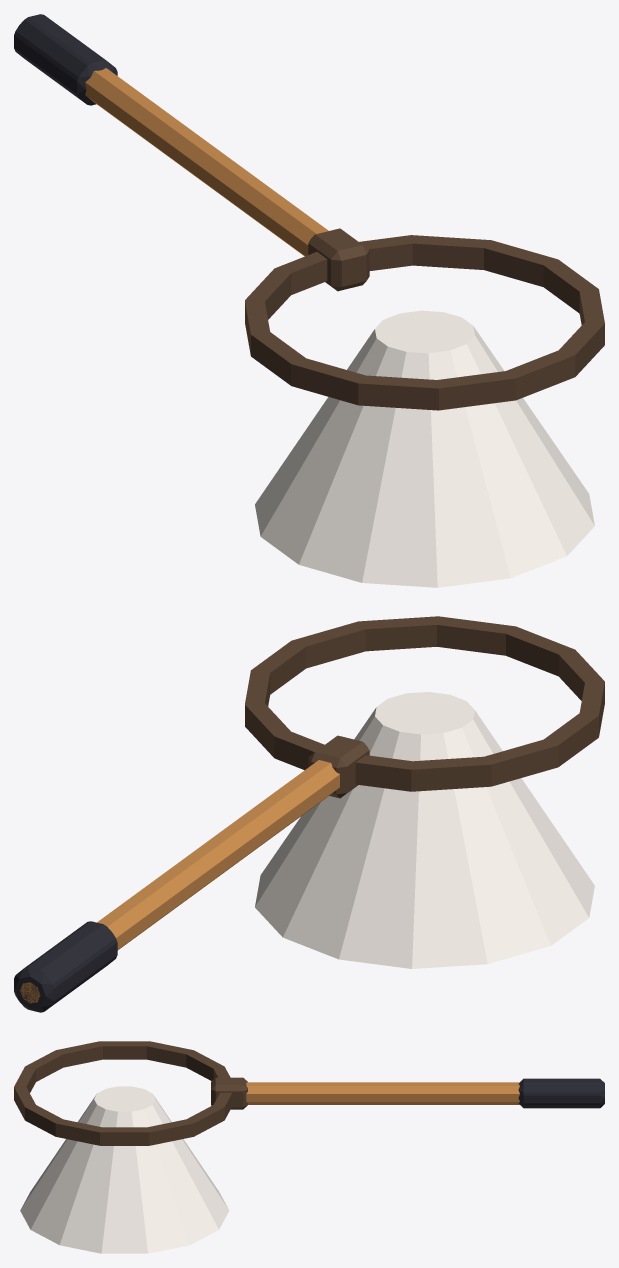
The model's file is CatCafe_Item_Net_L1.glb.
The picture shows the model from 3 angles, top to bottom: view 1: azimuth 30°, elevation 25°; view 2: azimuth 150°, elevation 25°; view 3: azimuth 270°, elevation 25°; orthographic projection. The views are drawn at different scales.
Visible parts, largest first — view 1: CatCafe_Item_Net_L1_Bag, CatCafe_Item_Net_L1_Handle; view 2: CatCafe_Item_Net_L1_Bag, CatCafe_Item_Net_L1_Handle; view 3: CatCafe_Item_Net_L1_Bag, CatCafe_Item_Net_L1_Handle.
Boxes of the visible parts, x1,y1,x2,y2 form: CatCafe_Item_Net_L1_Bag: (255, 310, 594, 587); CatCafe_Item_Net_L1_Handle: (14, 14, 604, 410); CatCafe_Item_Net_L1_Bag: (255, 692, 594, 968); CatCafe_Item_Net_L1_Handle: (14, 616, 604, 1012); CatCafe_Item_Net_L1_Bag: (20, 1086, 229, 1253); CatCafe_Item_Net_L1_Handle: (14, 1041, 604, 1145).
Bounding box in the file's own units: 1.75 × 1.17 × 4.8.
1 material, 1 textured.
